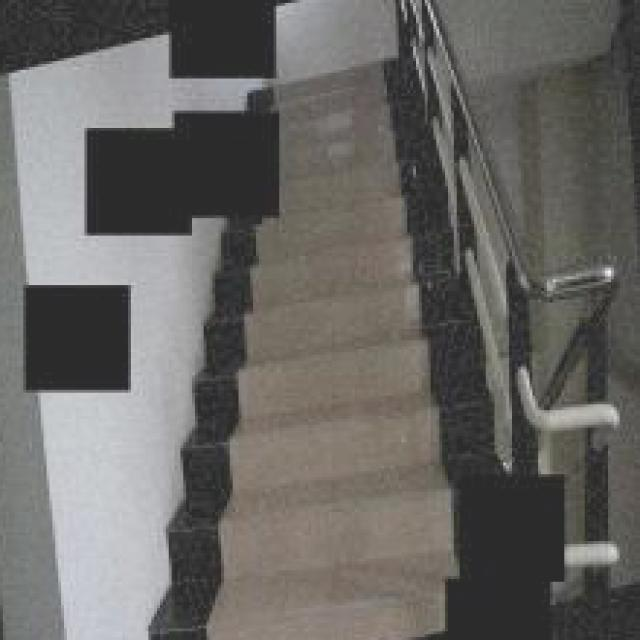upstair: (179, 263, 505, 481)
